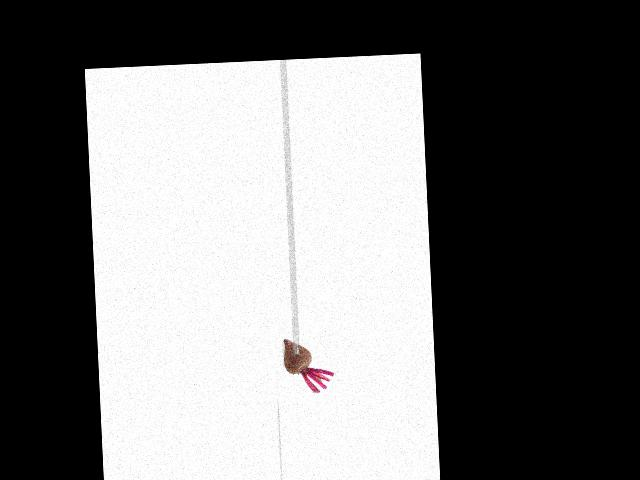beet: (282, 336, 334, 394)
